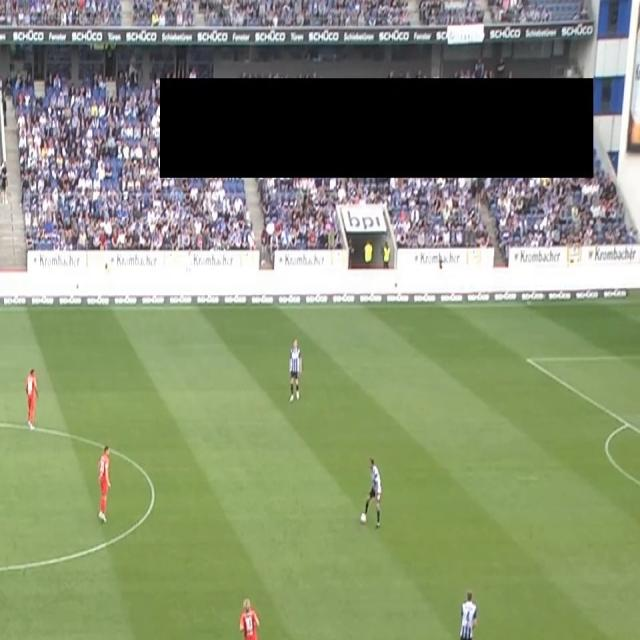ball: (360, 510, 367, 526)
